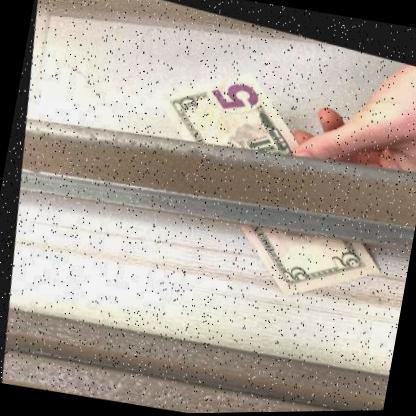five-back: (153, 67, 377, 290)
